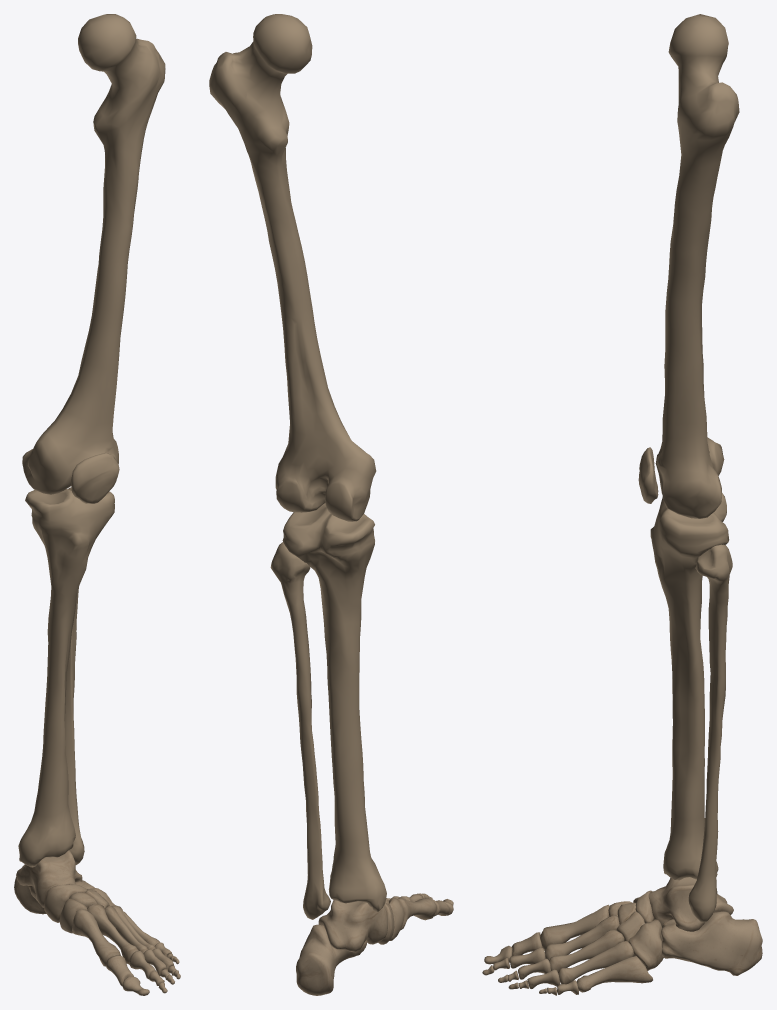
Rendered from Human_Leg_Bones.FBX.
The picture shows the model from 3 angles, left to right: view 1: azimuth 30°, elevation 25°; view 2: azimuth 150°, elevation 25°; view 3: azimuth 270°, elevation 25°; orthographic projection. The views are drawn at different scales.
Parts seen in each view (by area): view 1: Leg_L, Foot_L; view 2: Leg_L, Foot_L; view 3: Leg_L, Foot_L.
Boxes of the visible parts, x1=… form: Leg_L: x1=18, y1=14, x2=165, y2=867; Foot_L: x1=14, y1=850, x2=180, y2=995; Leg_L: x1=209, y1=14, x2=386, y2=919; Foot_L: x1=296, y1=893, x2=453, y2=995; Leg_L: x1=638, y1=14, x2=739, y2=922; Foot_L: x1=482, y1=877, x2=762, y2=995.
Bounding box in the file's own units: 16.85 × 94.94 × 24.62.
